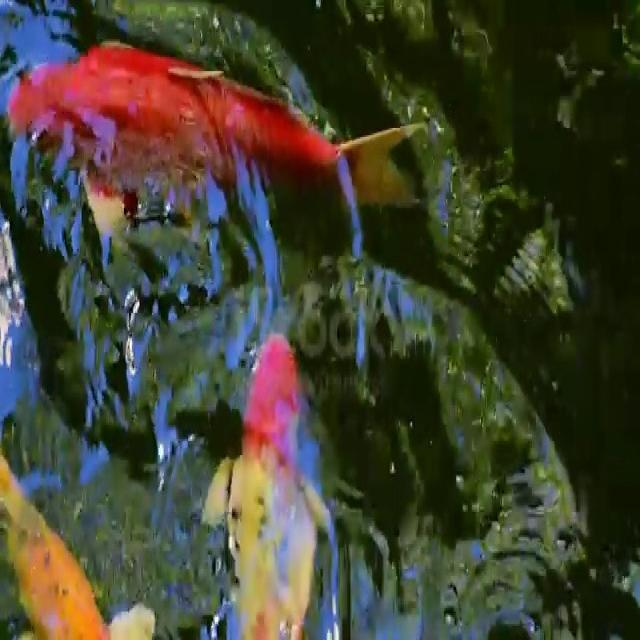fish: (11, 34, 421, 268), (205, 318, 339, 640), (0, 426, 153, 640)
